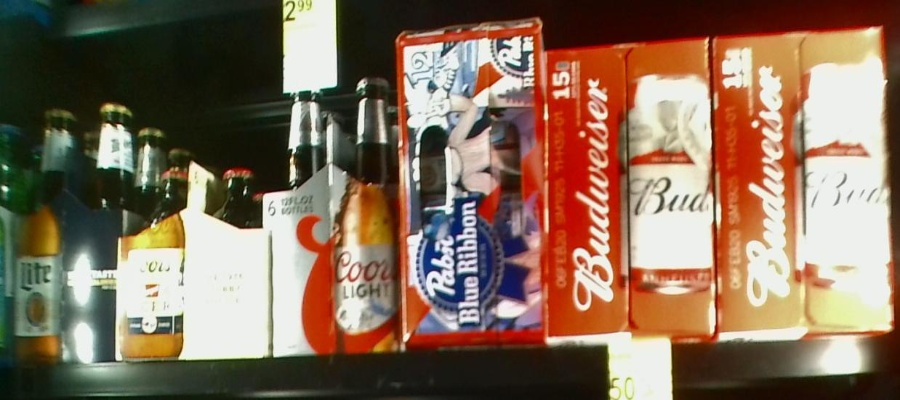bottle: (715, 28, 895, 336), (550, 40, 716, 334), (398, 19, 545, 347), (268, 81, 398, 360), (126, 164, 267, 364), (15, 104, 116, 366)
